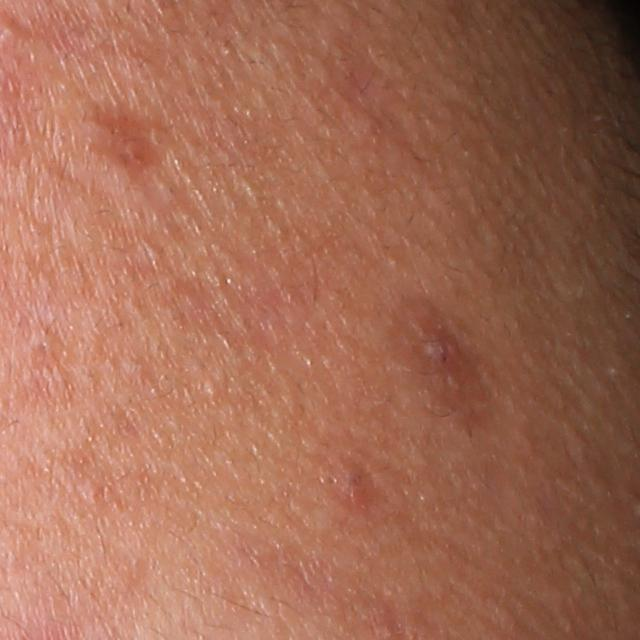atrophic_scar: (322, 26, 425, 172), (84, 101, 165, 181)
comedo: (199, 378, 223, 404)
